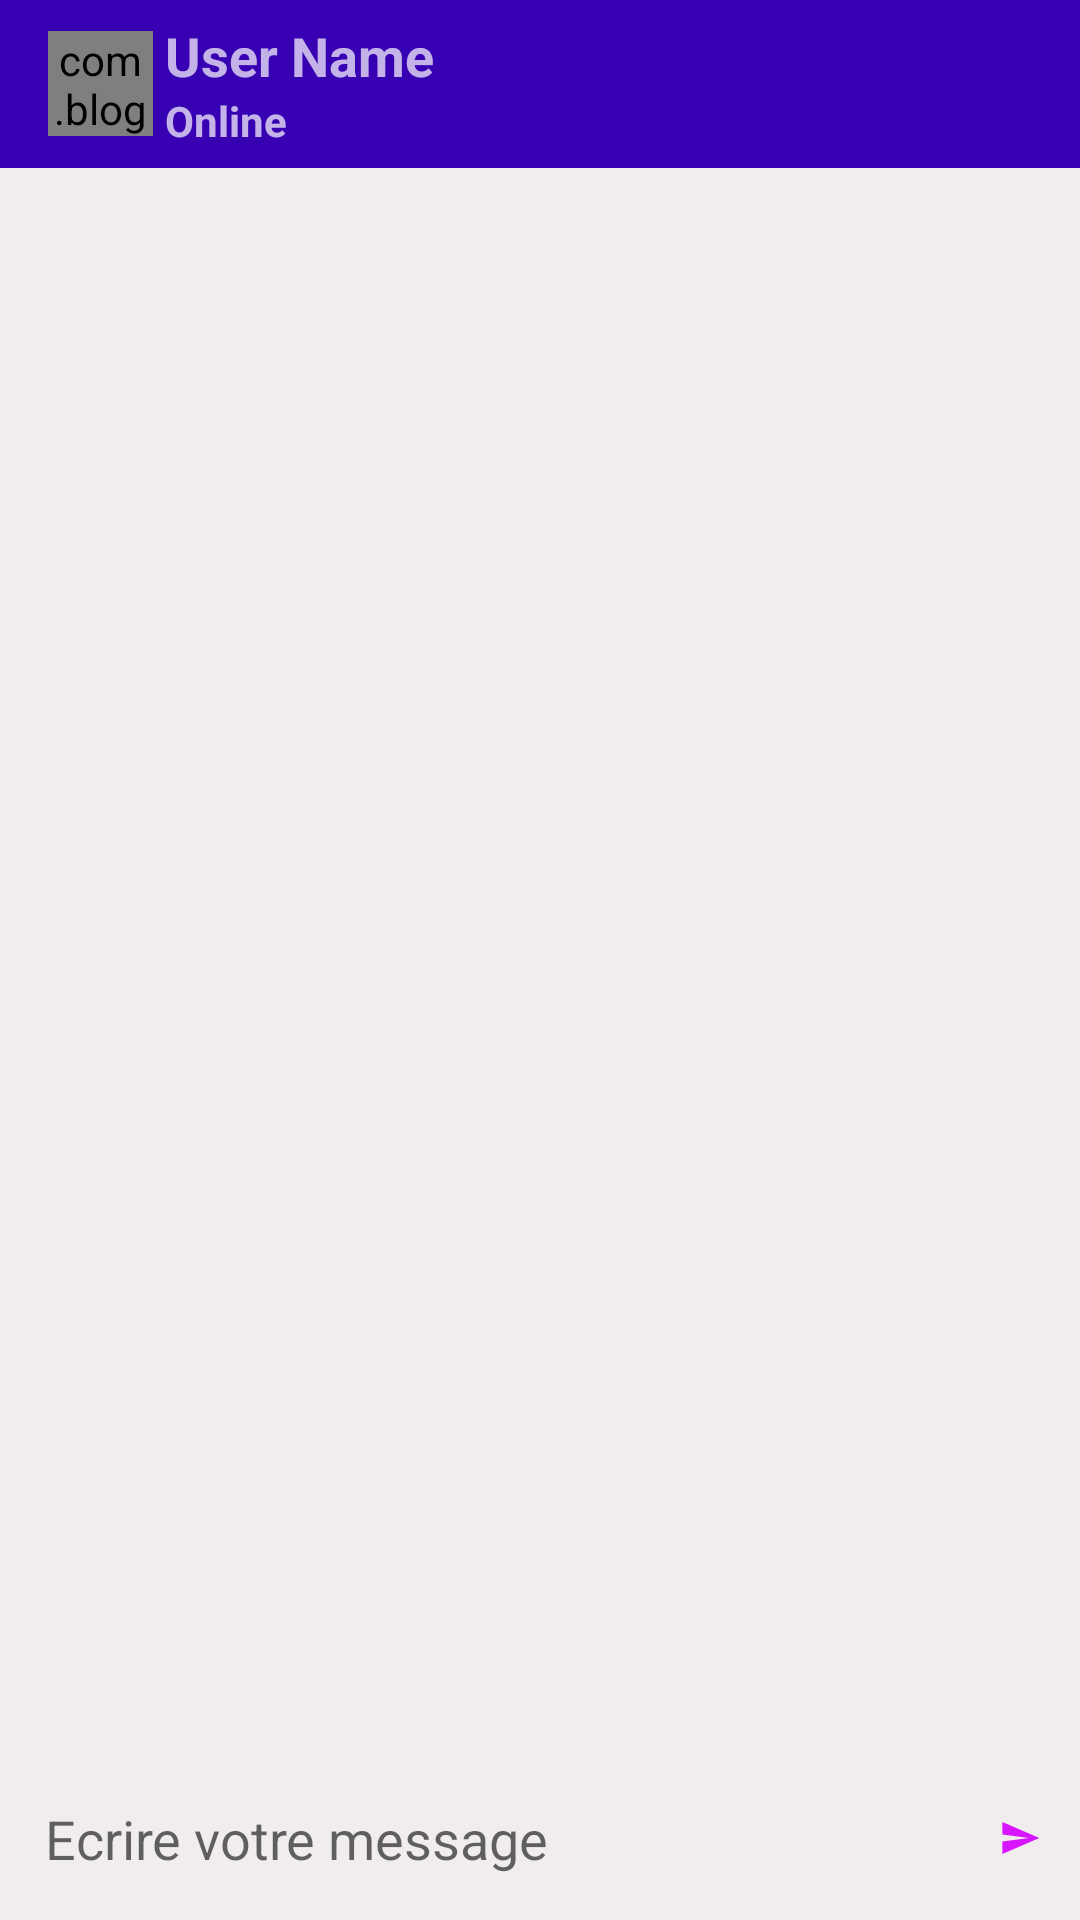

Screen size 1080px×1920px. Icon name, then its box in pixels as (x1, y1, x2, y2):
send: (1002, 1822, 1039, 1854)
